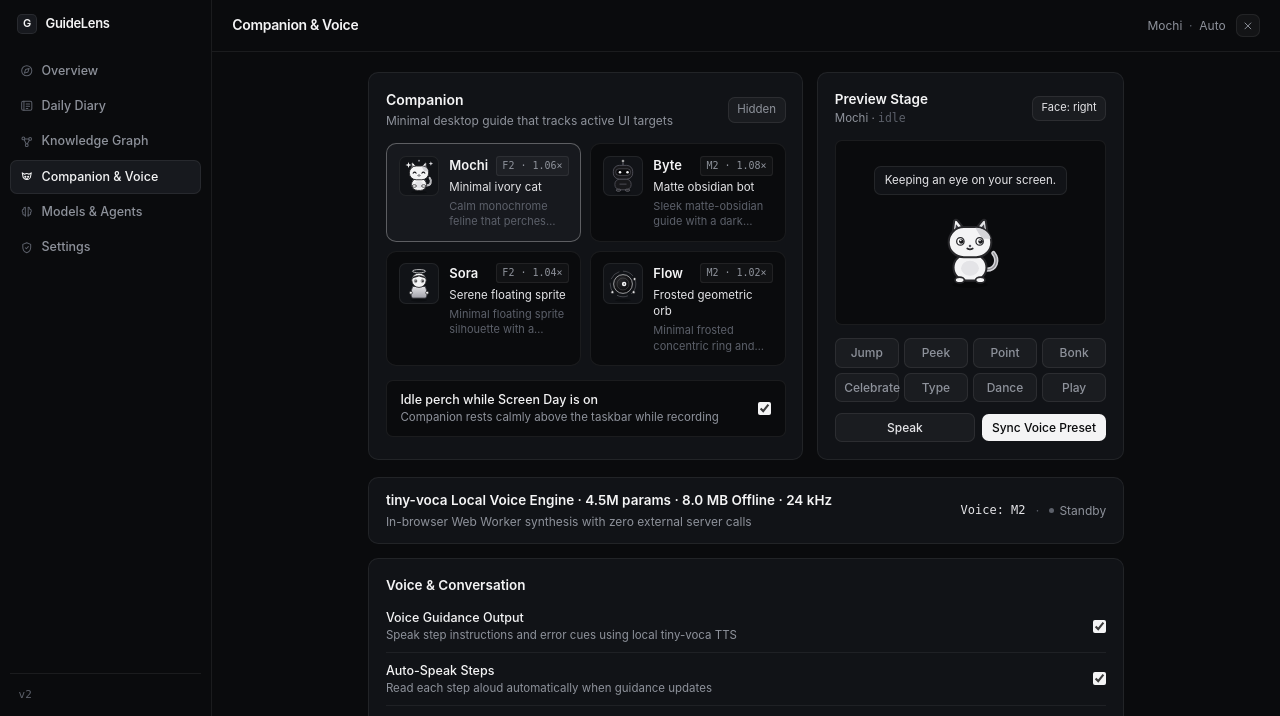
Test case: App routing and IPC helpers › switches active tab via settings-route event even when Settings window is already mounted
This screenshot has width=1280, height=716.
Later steps or results of the test are not shown.
# User locally switches to privacy tab
Step 1. Click the tab with test id "tab-privacy" → (106, 247), box [10,231,201,264]
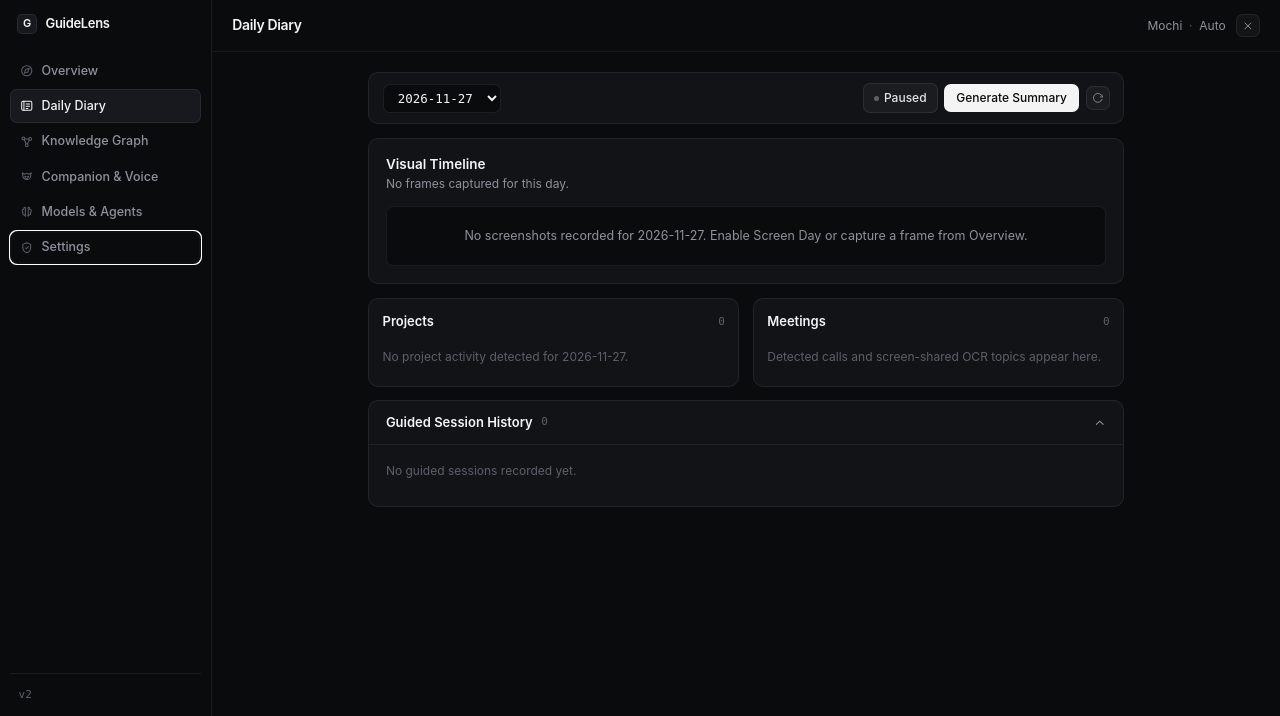
Result: the element with test id "panel-history" is shown at [368,72,1124,507]
